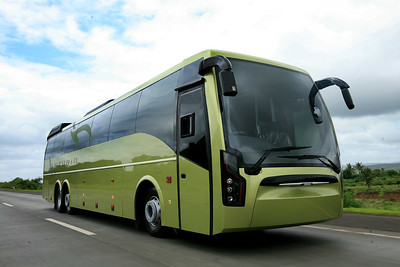bus: (41, 49, 343, 237)
